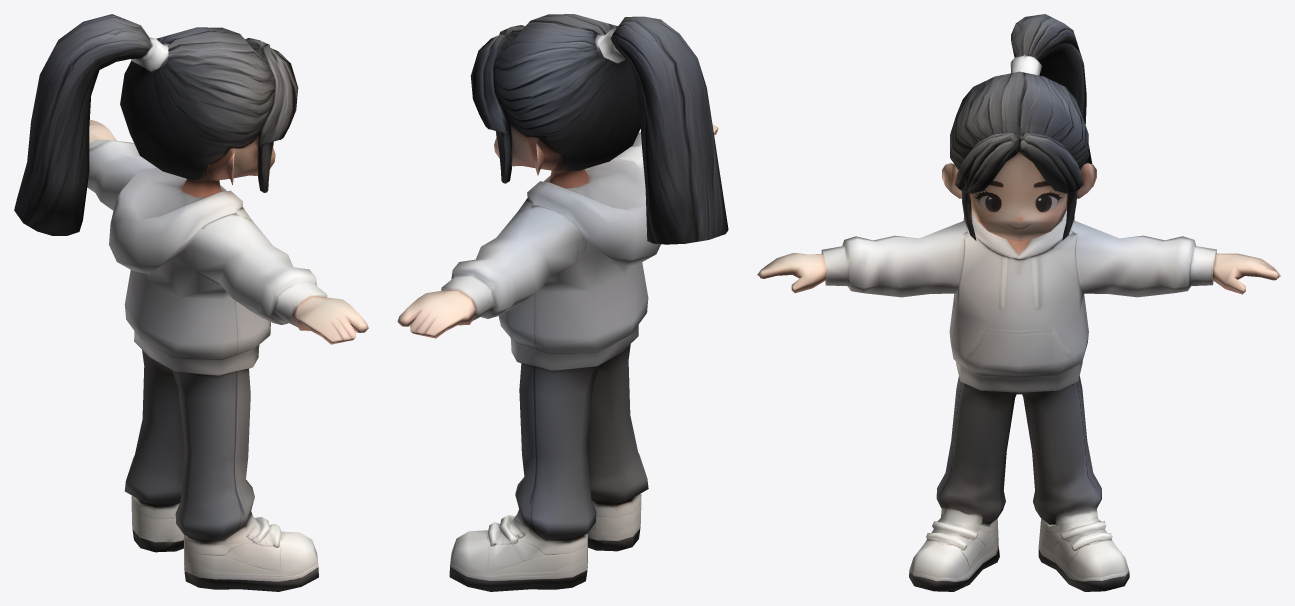
3 renders of one model, left to right at view 1: azimuth 30°, elevation 25°; view 2: azimuth 150°, elevation 25°; view 3: azimuth 270°, elevation 25°, orthographic. The views are drawn at different scales.
Parts seen in each view (by area): view 1: tripo_node_f6b68024-7abd-4814-a713-778d65afaf48; view 2: tripo_node_f6b68024-7abd-4814-a713-778d65afaf48; view 3: tripo_node_f6b68024-7abd-4814-a713-778d65afaf48.
Boxes of the visible parts, x1,y1,x2,y2 form: tripo_node_f6b68024-7abd-4814-a713-778d65afaf48: [14, 14, 368, 591]; tripo_node_f6b68024-7abd-4814-a713-778d65afaf48: [397, 14, 728, 591]; tripo_node_f6b68024-7abd-4814-a713-778d65afaf48: [757, 14, 1280, 591].
Bounding box in the file's own units: 0.4634 × 0.9995 × 0.9341.
1 material, 1 textured.
